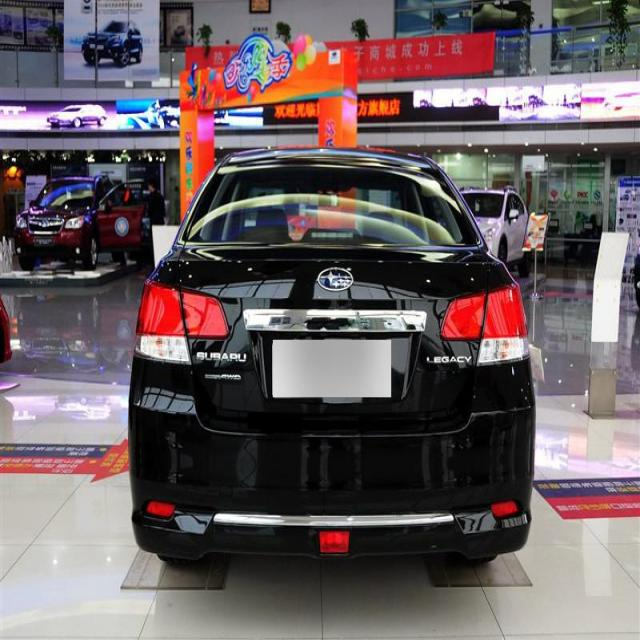back_glass: (180, 162, 483, 248)
back_left_side_light: (132, 279, 233, 370)
back_right_side_light: (438, 283, 529, 369)
rear_bumper: (128, 393, 538, 556)
